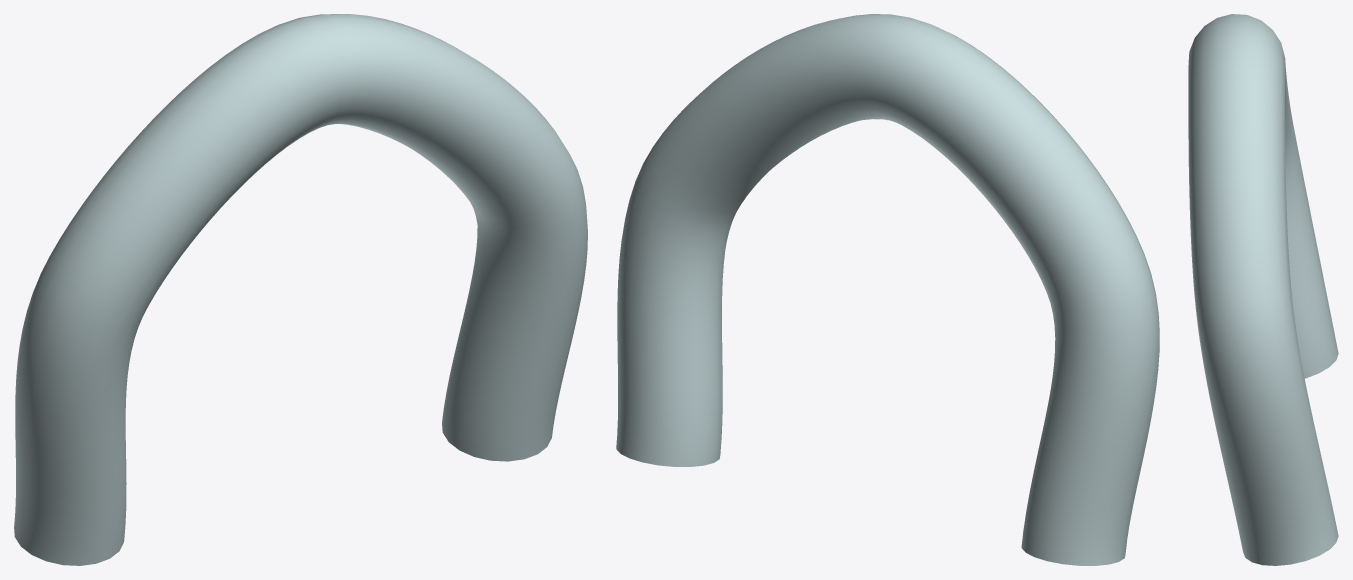
3 renders of one model, left to right at view 1: azimuth 30°, elevation 25°; view 2: azimuth 150°, elevation 25°; view 3: azimuth 270°, elevation 25°, orthographic. The views are drawn at different scales.
Parts seen in each view (by area): view 1: liquid-arch; view 2: liquid-arch; view 3: liquid-arch.
Boxes of the visible parts, x1,y1,x2,y2 form: liquid-arch: [14, 14, 587, 565]; liquid-arch: [616, 14, 1159, 565]; liquid-arch: [1188, 14, 1338, 565].
Bounding box in the file's own units: 2.08 × 1.76 × 0.5565.
